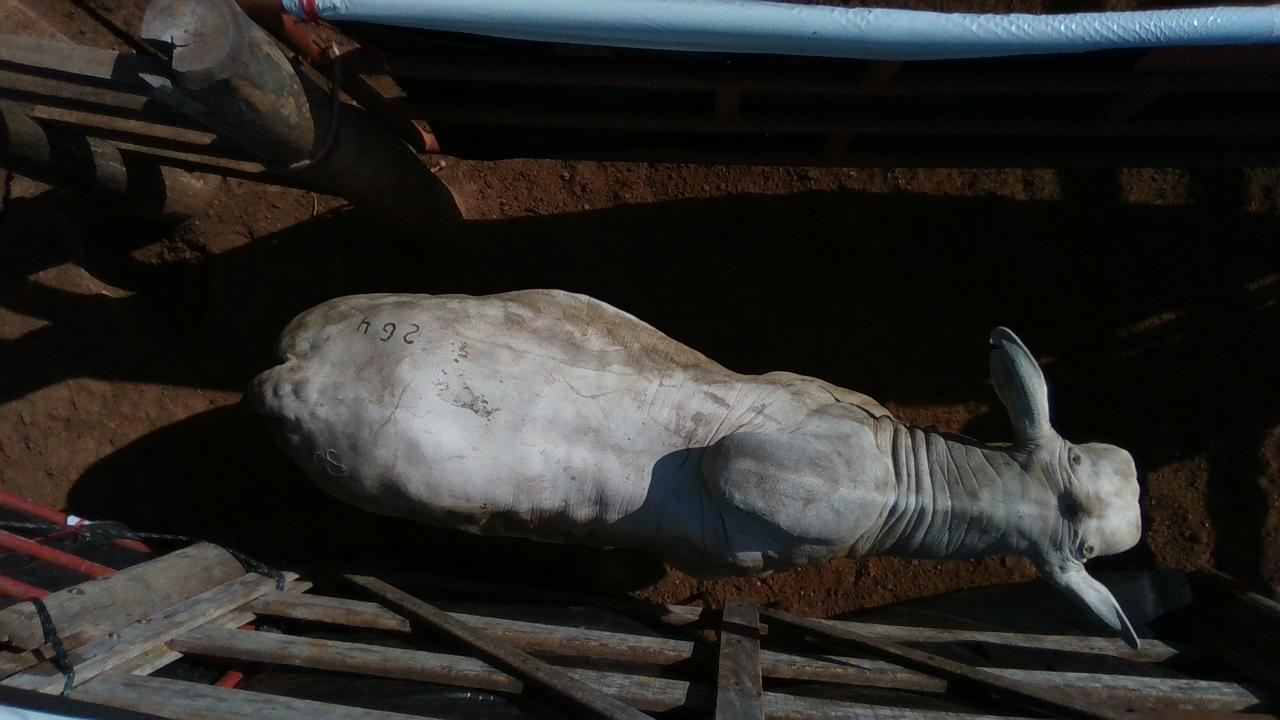cattle: (243, 285, 1145, 652)
